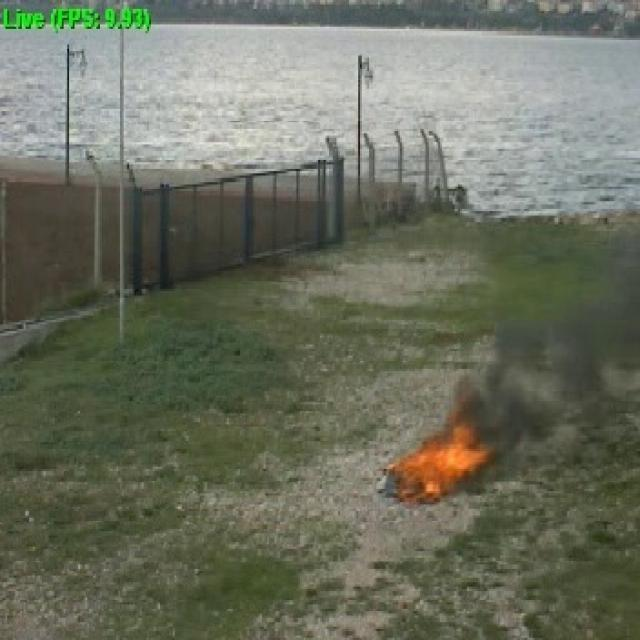Fire: (482, 342, 602, 432), (394, 437, 486, 493)
